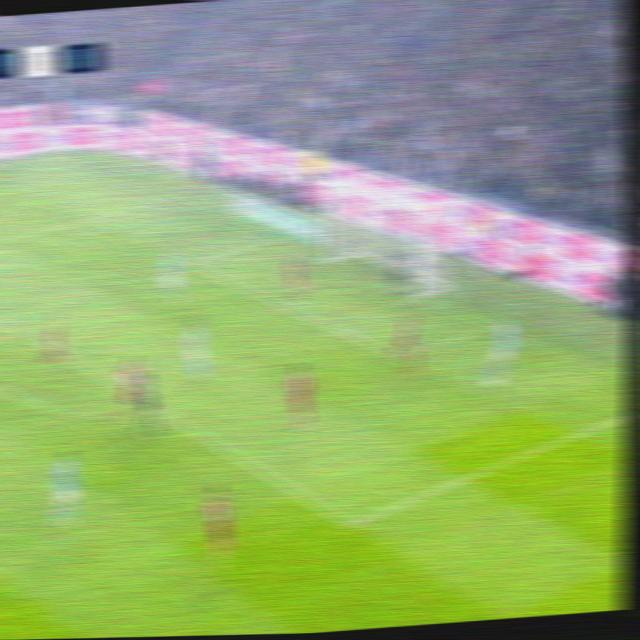bigarea_bottom_inner: (335, 509, 367, 542)
bigarea_top_outter: (162, 192, 181, 204)
bottom_arc_area_intersection: (153, 404, 182, 429)
corner: (50, 151, 73, 163)
smallarea_bottom_inner: (388, 345, 415, 369)
smallarea_bottom_outter: (480, 315, 503, 335)
smallarea_top_inner: (177, 248, 206, 278)
smallarea_top_outter: (262, 232, 283, 247)
top_arc_area_intersection: (1, 314, 25, 339)
